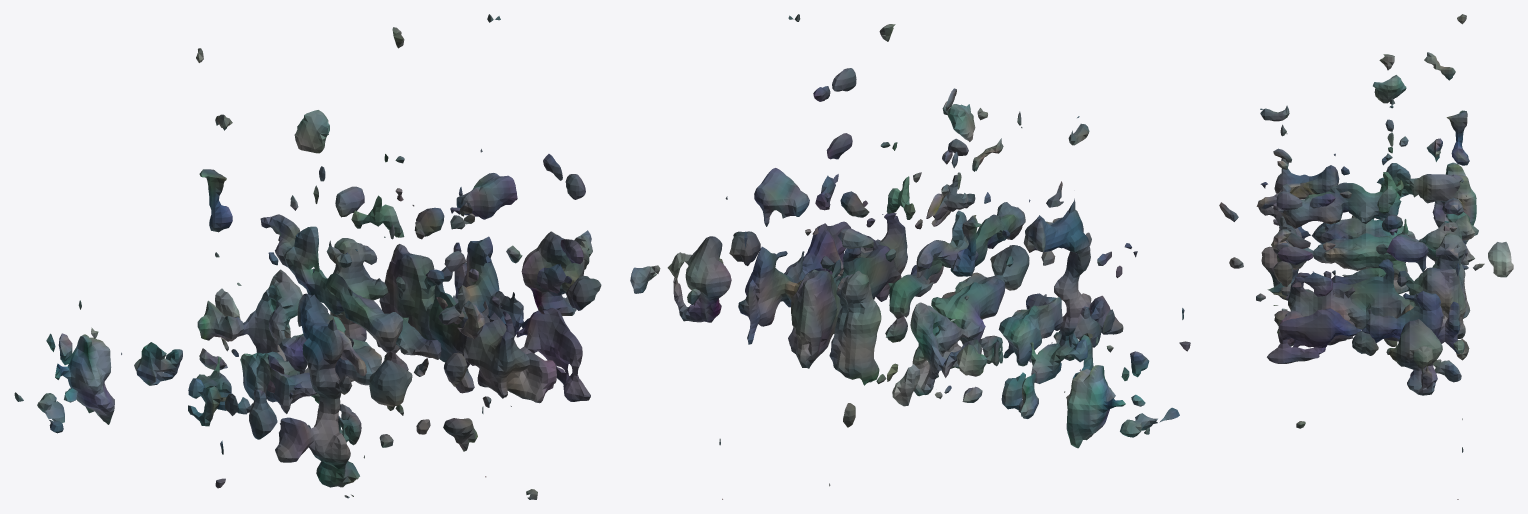
3 views of the same model, side by side, from view 1: azimuth 30°, elevation 25°; view 2: azimuth 150°, elevation 25°; view 3: azimuth 270°, elevation 25° (orthographic). The views are drawn at different scales.
Parts seen in each view (by area): view 1: model.ply; view 2: model.ply; view 3: model.ply.
Boxes of the visible parts, <box> form: model.ply: <box>14,14,601,499</box>; model.ply: <box>630,14,1190,499</box>; model.ply: <box>1219,14,1513,499</box>.
Bounding box in the file's own units: 1.78 × 1.54 × 1.04.
